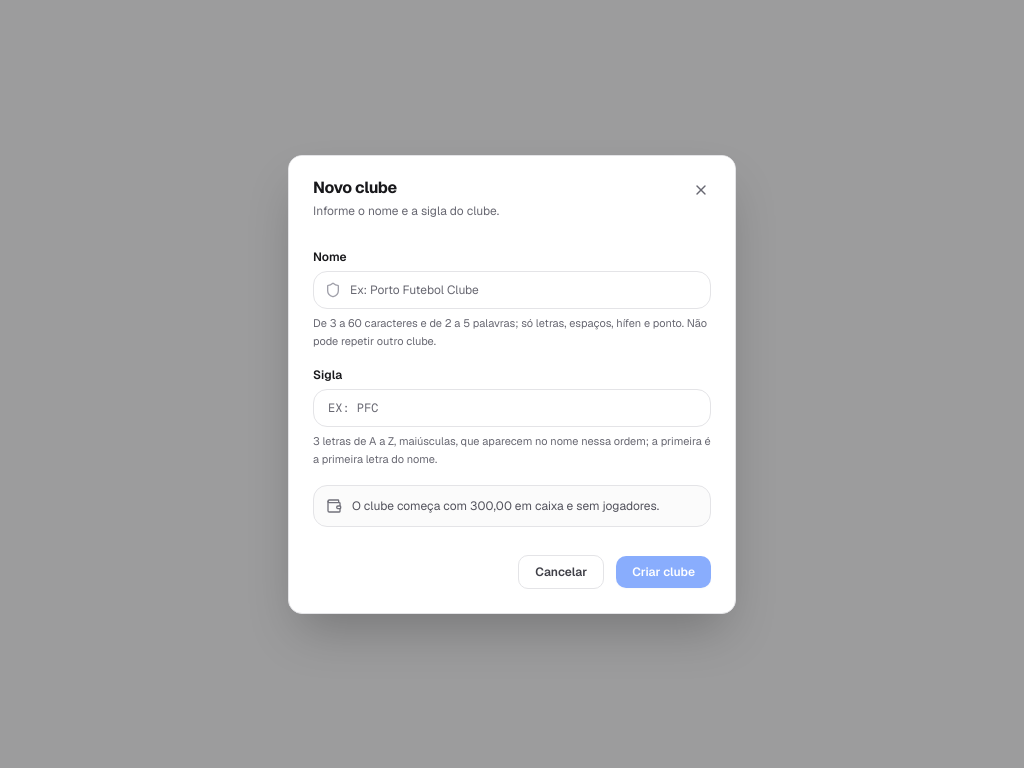
Test: ClubCreateModal Component › mantém o botão de cadastro desabilitado enquanto a sigla não possui 3 letras
The image size is (1024, 768).
Expected: the button "Criar clube" is disabled, [616, 556, 711, 588]
// Preenche o nome
Type "Porto Futebol Clube" into the field with placeholder "Ex: Porto Futebol Clube" at (512, 290), box [313, 271, 711, 309]
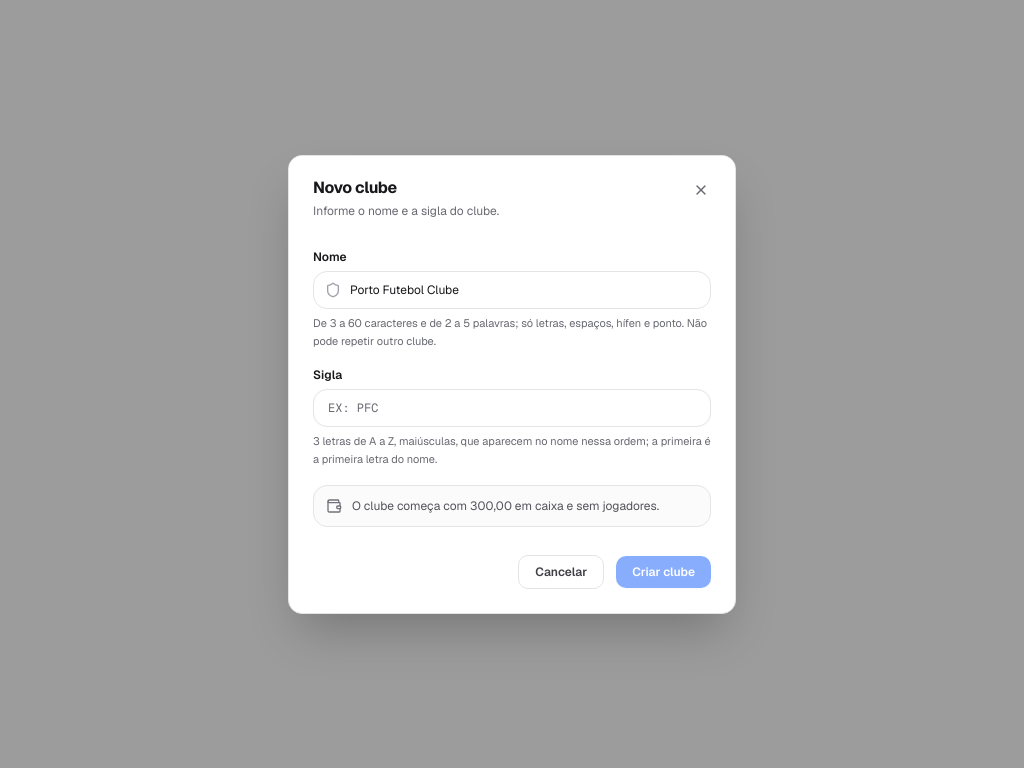
Expected: the button "Criar clube" is disabled, [616, 556, 711, 588]
// Preenche sigla com 2 letras (ainda insuficiente)
Type "PF" into the field with placeholder "Ex: PFC" at (512, 408), box [313, 389, 711, 427]
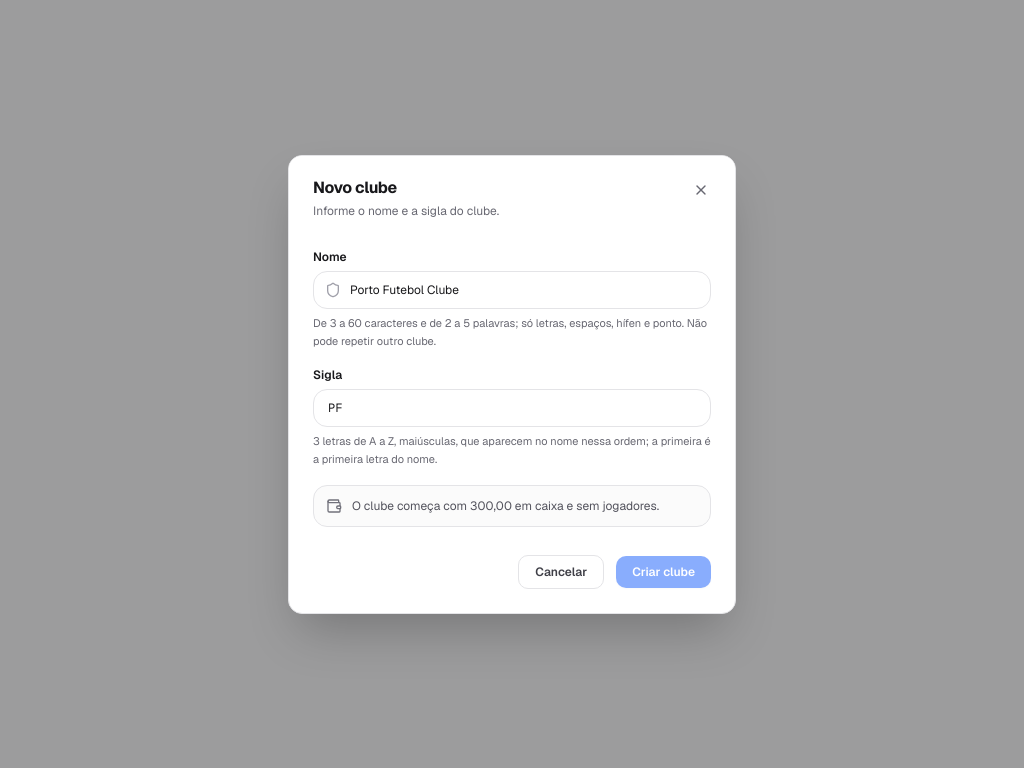
Expected: the button "Criar clube" is disabled, [616, 556, 711, 588]
// Completa 3 letras
Replace the text in the 2nd field with placeholder "Ex: PFC" with "PFC" at (512, 408), box [313, 389, 711, 427]
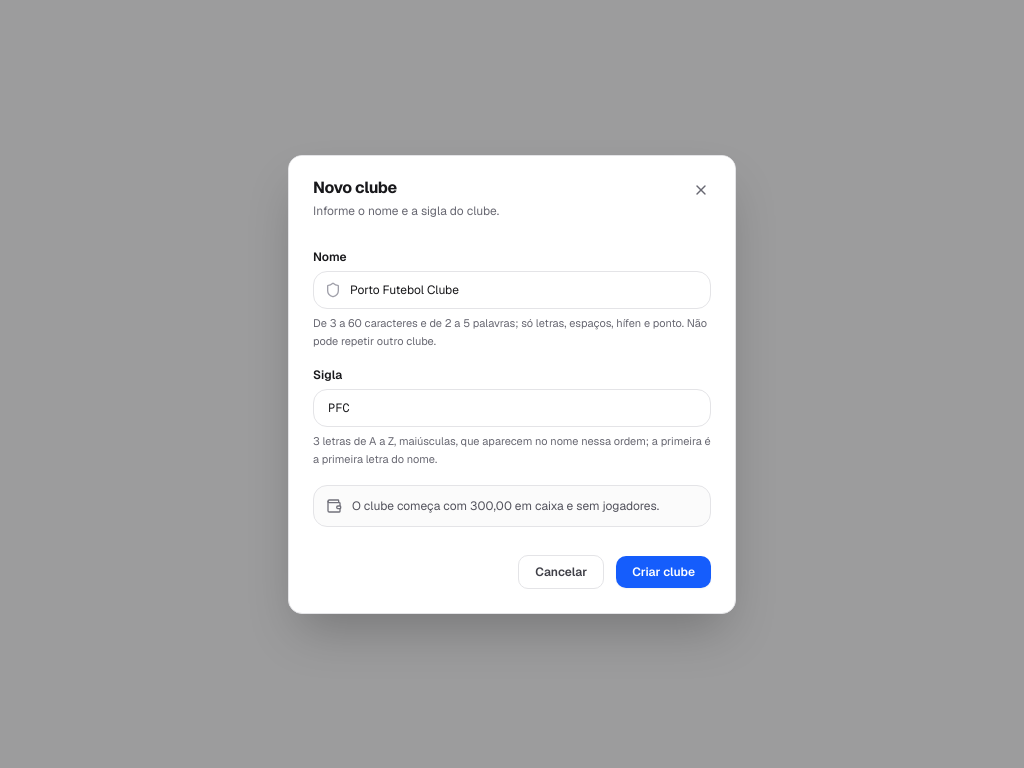
Now the button "Criar clube" is enabled, box [616, 556, 711, 588]
